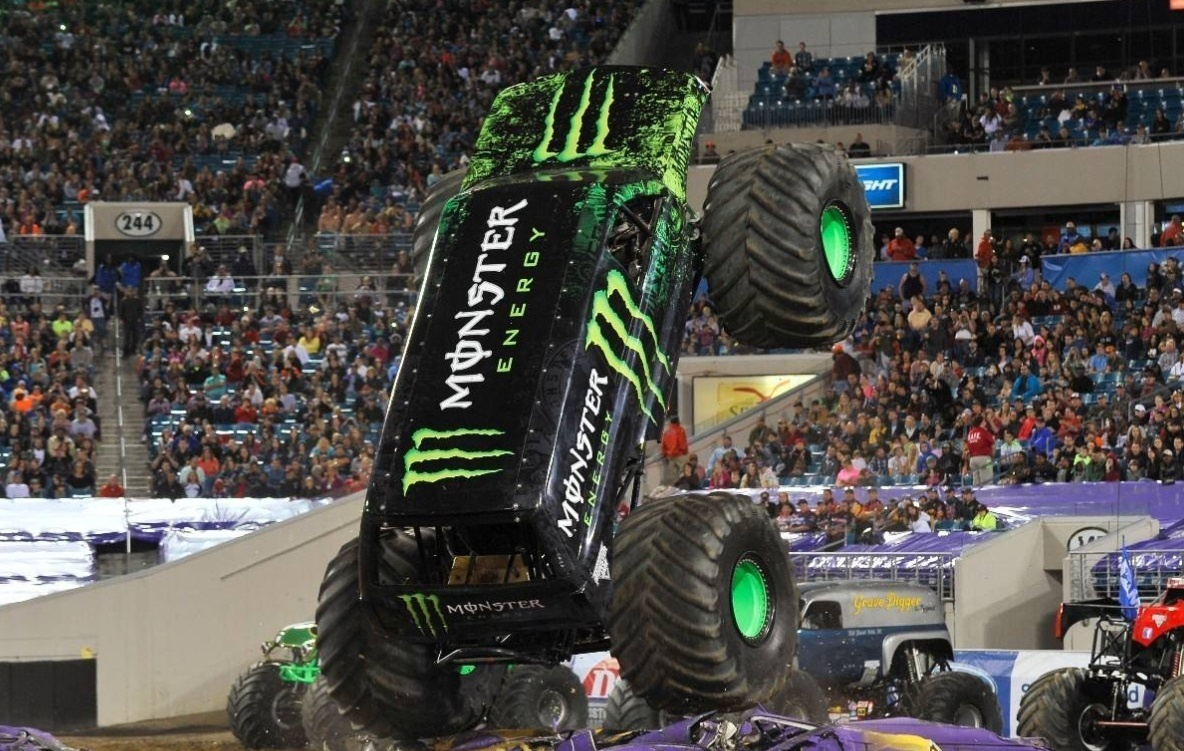racing car: (295, 64, 856, 720)
